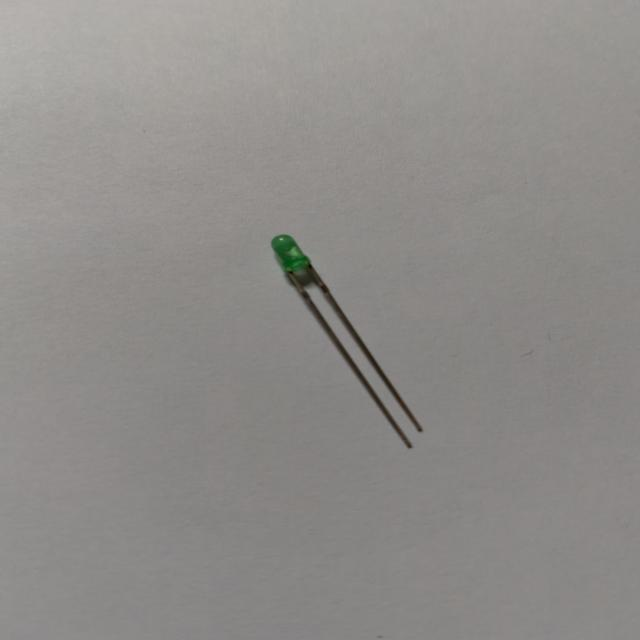led: (260, 220, 436, 456)
